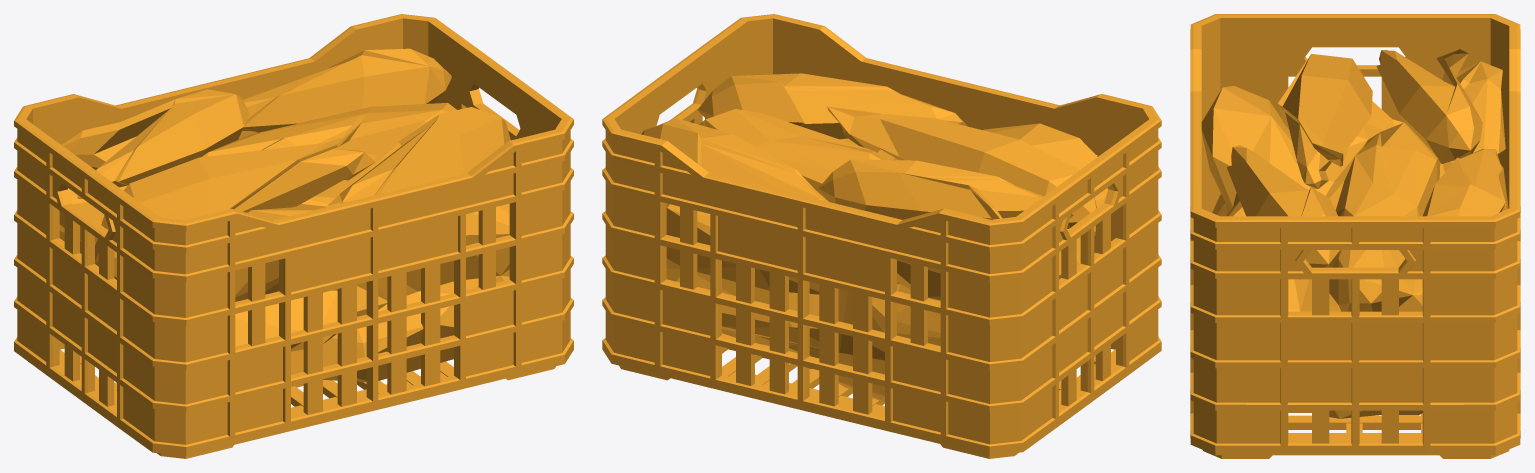
File: SM_Crate_Plastic_Big_Corn_A.fbx
3 views of the same model, side by side, from view 1: azimuth 30°, elevation 25°; view 2: azimuth 150°, elevation 25°; view 3: azimuth 270°, elevation 25° (orthographic).
Parts seen in each view (by area): view 1: crate-plastic-big-corn-a; view 2: crate-plastic-big-corn-a; view 3: crate-plastic-big-corn-a.
Boxes of the visible parts, <box> form: crate-plastic-big-corn-a: <box>14,14,573,458</box>; crate-plastic-big-corn-a: <box>602,14,1161,458</box>; crate-plastic-big-corn-a: <box>1190,14,1520,458</box>.
Size of the model in its own units: 0.6083 by 0.3307 by 0.4083.
